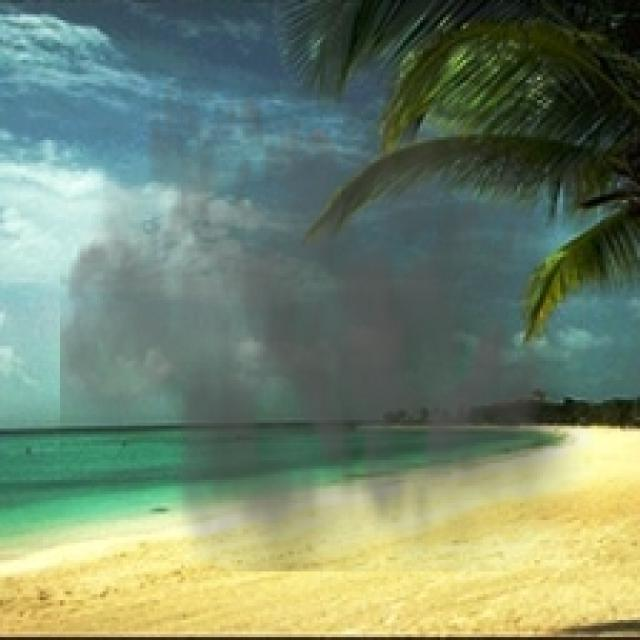smoke: (60, 29, 594, 572)
